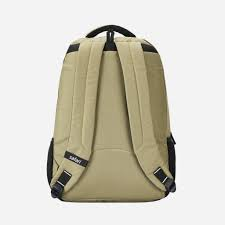backpack: (46, 24, 176, 202)
